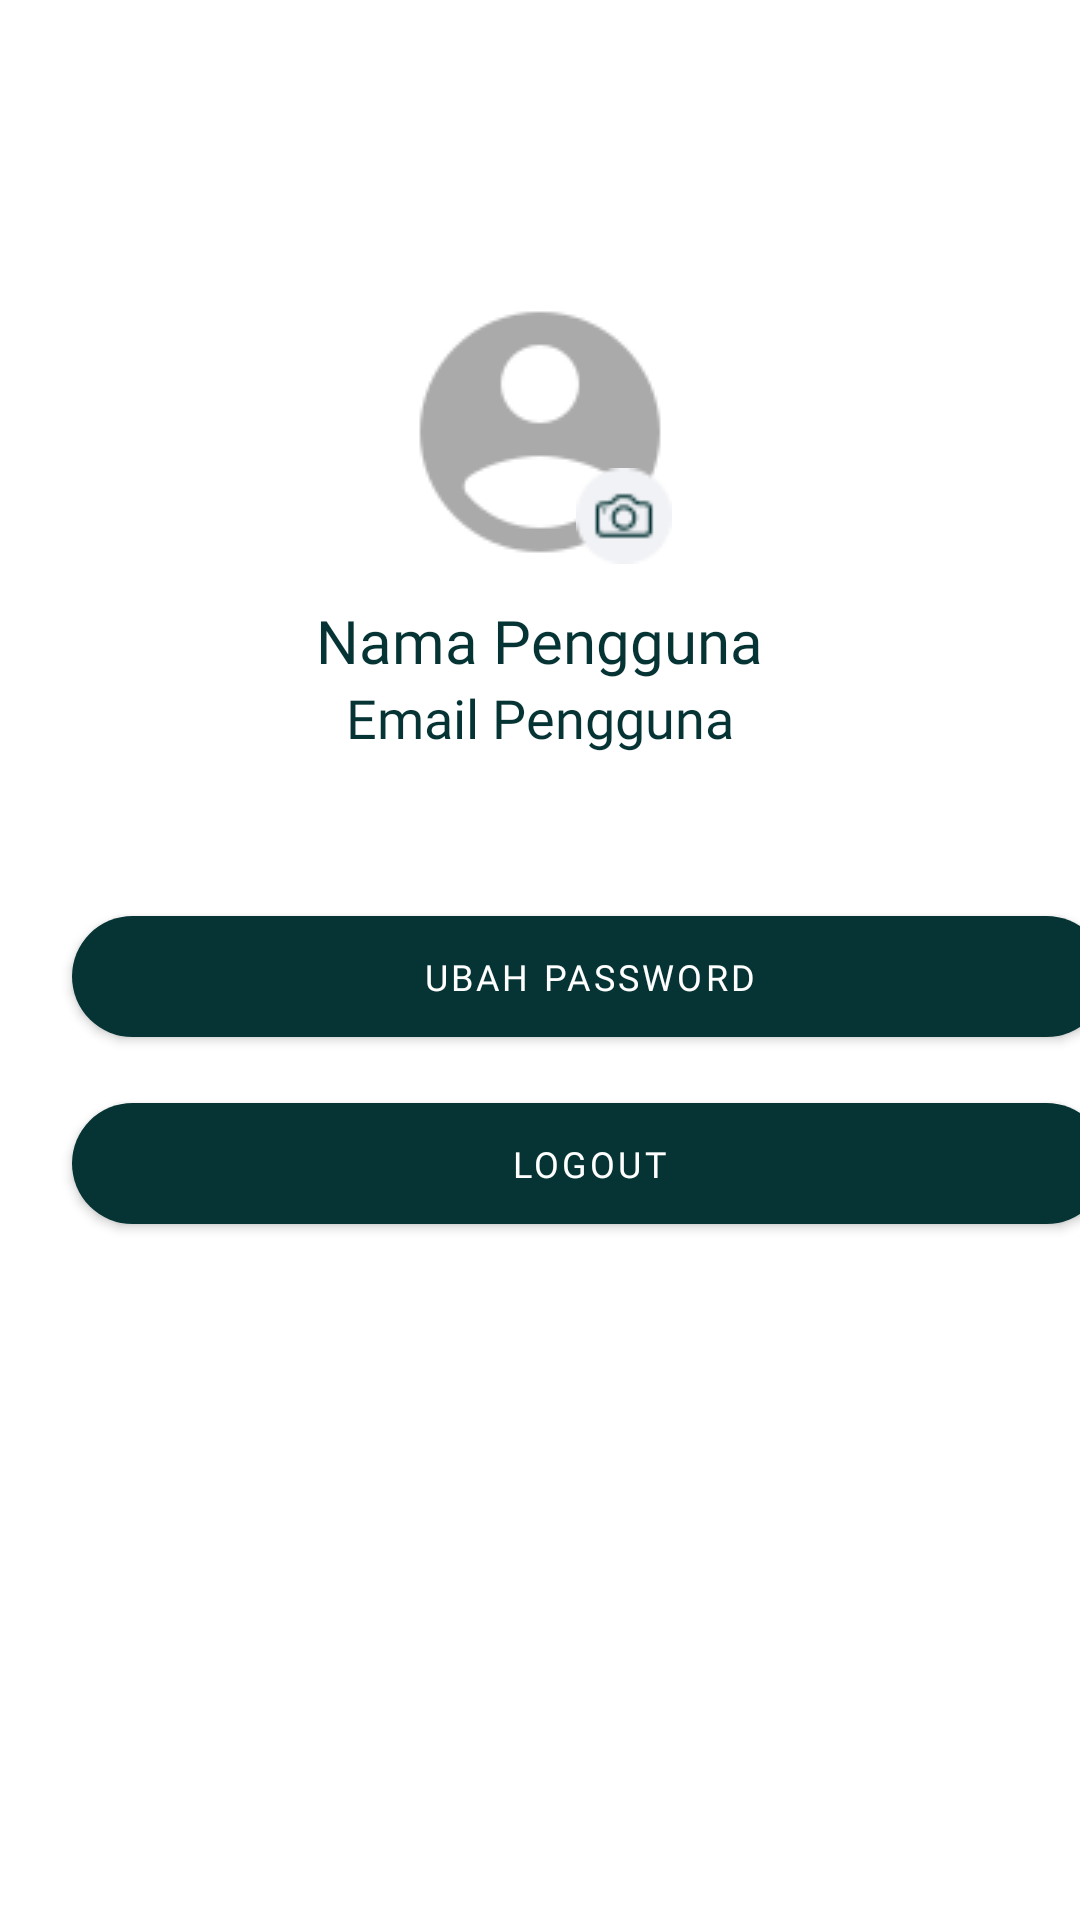

Named icons in this screenshot (1080w x 1920h) and their bounding boxes, BBox(x1, y1, x2, y2):
Take Photo: BBox(594, 493, 654, 539)
